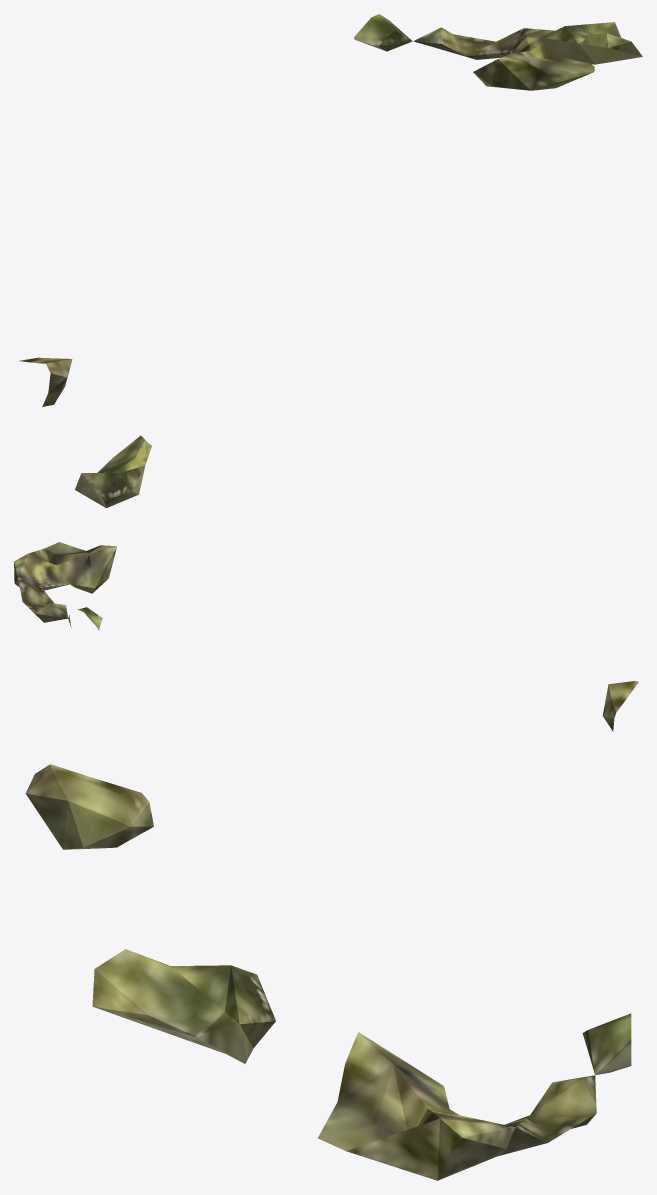
3 views of the same model, one above another, from view 1: azimuth 30°, elevation 25°; view 2: azimuth 150°, elevation 25°; view 3: azimuth 270°, elevation 25° (orthographic). The views are drawn at different scales.
Size of the model in its own units: 1.85 by 0.6154 by 0.9301.
1 material, 1 textured.
